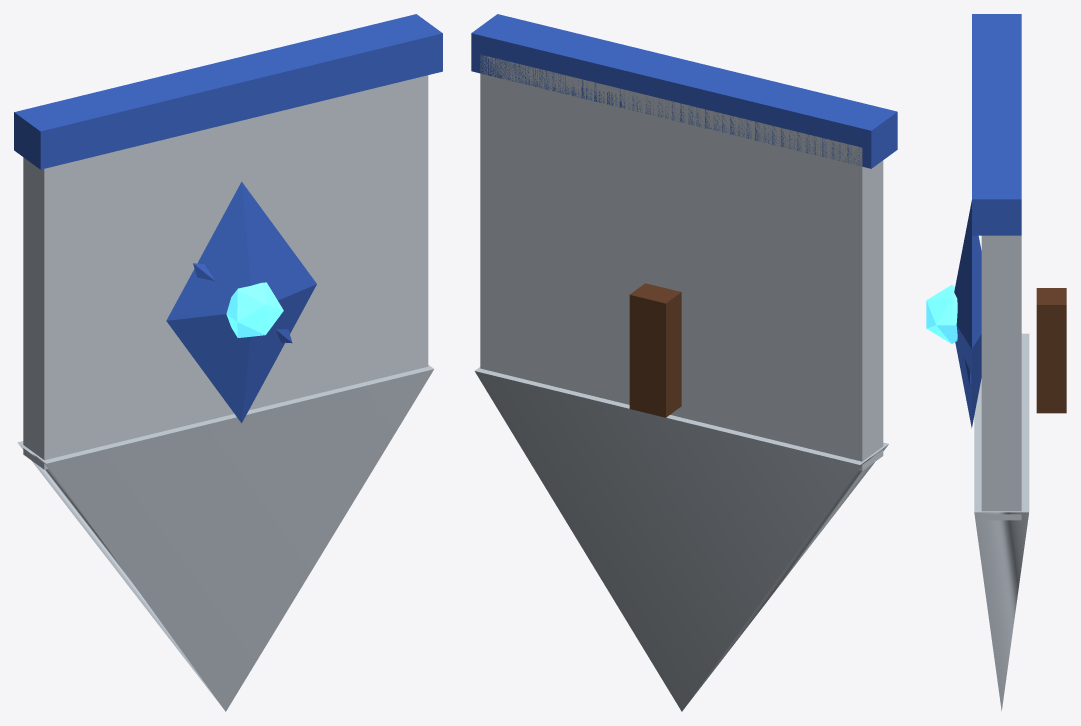
Rendered from shield_t2.glb.
3 views of the same model, side by side, from view 1: azimuth 30°, elevation 25°; view 2: azimuth 150°, elevation 25°; view 3: azimuth 270°, elevation 25° (orthographic). The views are drawn at different scales.
Parts seen in each view (by area): view 1: item_metal2, item_trim2, item_emblem2, item_gem2; view 2: item_metal2, item_trim2, item_leather2; view 3: item_metal2, item_trim2, item_emblem2, item_leather2, item_gem2.
Part boxes in pixels (x1=…): item_metal2: x1=17, y1=75, x2=433, y2=711; item_trim2: x1=14, y1=14, x2=442, y2=169; item_emblem2: x1=166, y1=181, x2=316, y2=423; item_gem2: x1=226, y1=282, x2=283, y2=337; item_metal2: x1=474, y1=54, x2=888, y2=711; item_trim2: x1=471, y1=14, x2=897, y2=168; item_leather2: x1=629, y1=283, x2=681, y2=417; item_metal2: x1=974, y1=235, x2=1029, y2=710; item_trim2: x1=972, y1=14, x2=1021, y2=235; item_emblem2: x1=954, y1=200, x2=981, y2=428; item_leather2: x1=1036, y1=288, x2=1066, y2=413; item_gem2: x1=926, y1=285, x2=957, y2=343.
Size of the model in its own units: 0.44 by 0.67 by 0.1405.
